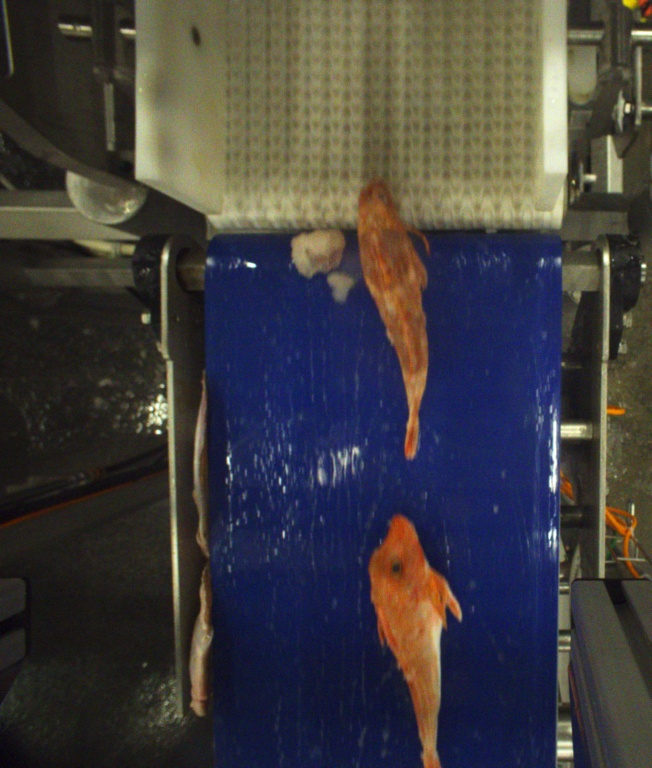GUU: (355, 181, 428, 461)
